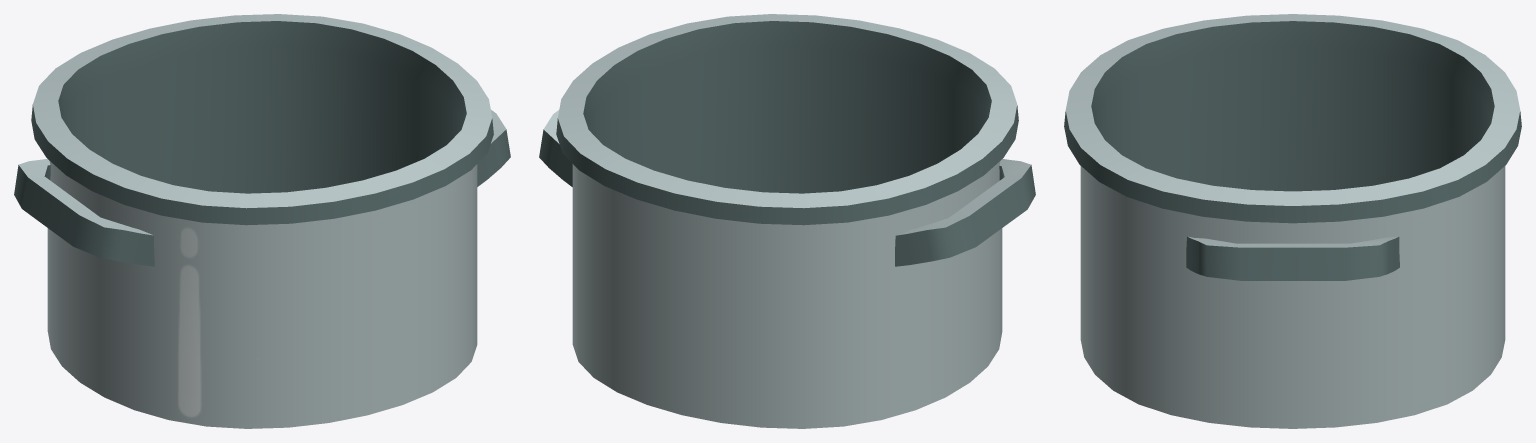
The model's file is mesh_Pot_v1.1.fbx.
3 renders of one model, left to right at view 1: azimuth 30°, elevation 25°; view 2: azimuth 150°, elevation 25°; view 3: azimuth 270°, elevation 25°, orthographic.
Visible parts, largest first — view 1: pCube45; view 2: pCube45; view 3: pCube45.
Part boxes in pixels (box(x1,y1,x2,y2)): pCube45: box(14, 14, 510, 428); pCube45: box(539, 14, 1035, 428); pCube45: box(1064, 14, 1521, 428).
Bounding box in the file's own units: 666 × 342 × 610.
